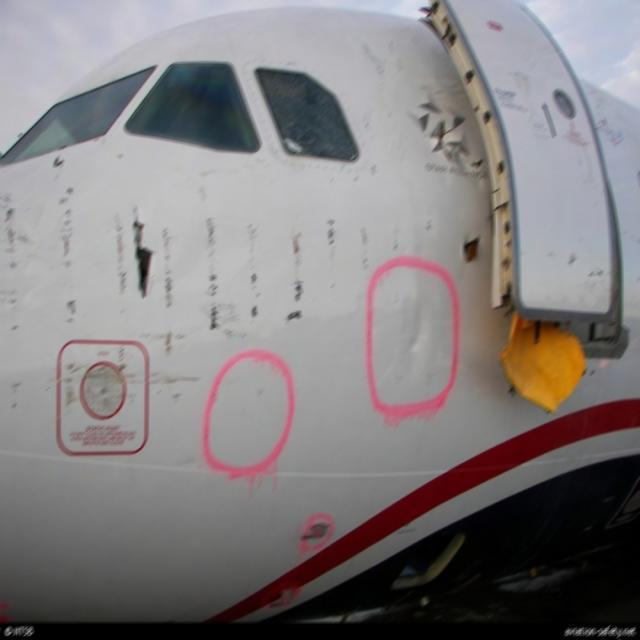crack: (125, 216, 161, 301)
